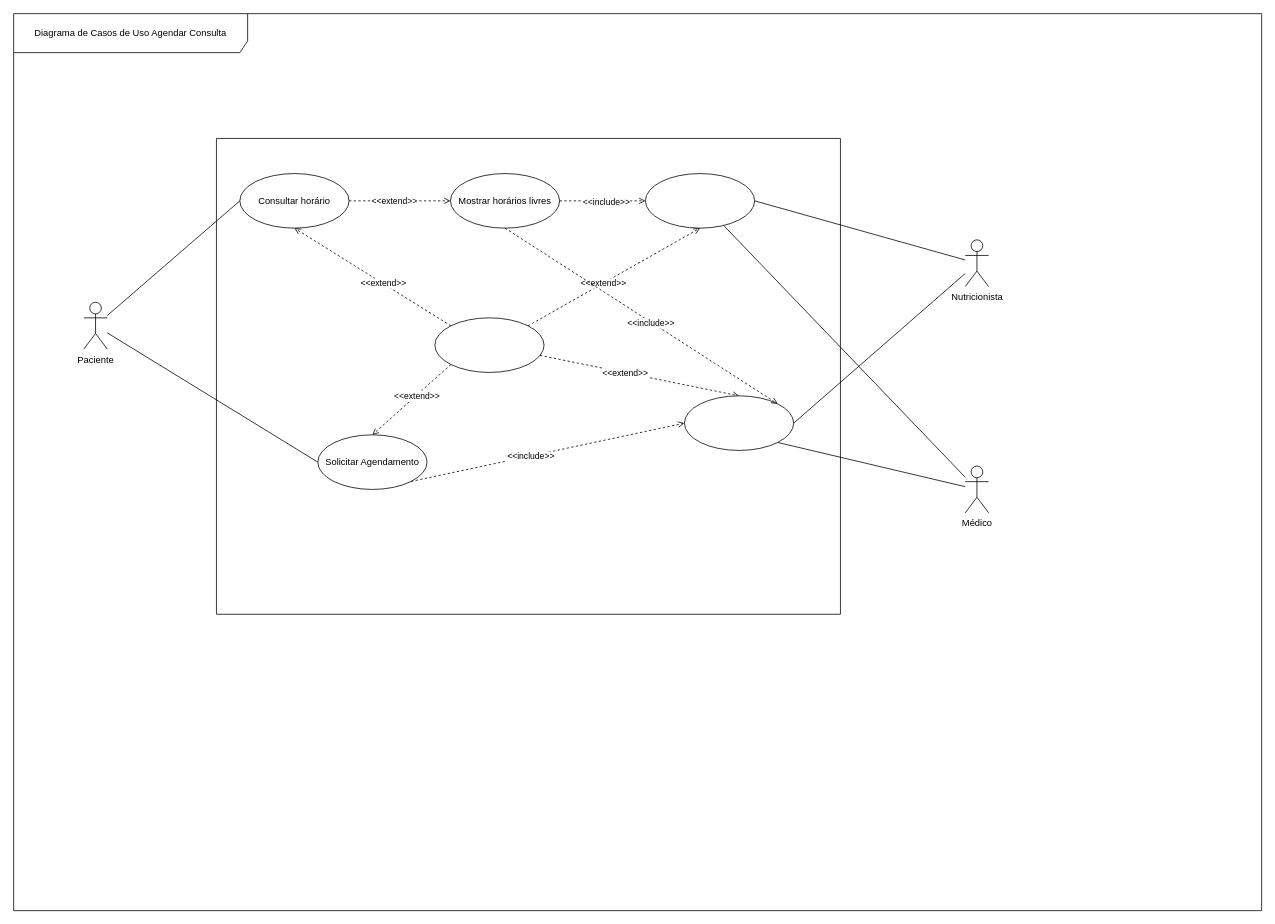
The diagram is 1275 pixels wide and 924 high, and some of its shapes have lost their labels. Each missing label, with the centre of its shape:
"Login" goes at point 489,344.
"Manter Agenta" goes at point 700,200.
"Realizar agendamento" goes at point 739,422.
